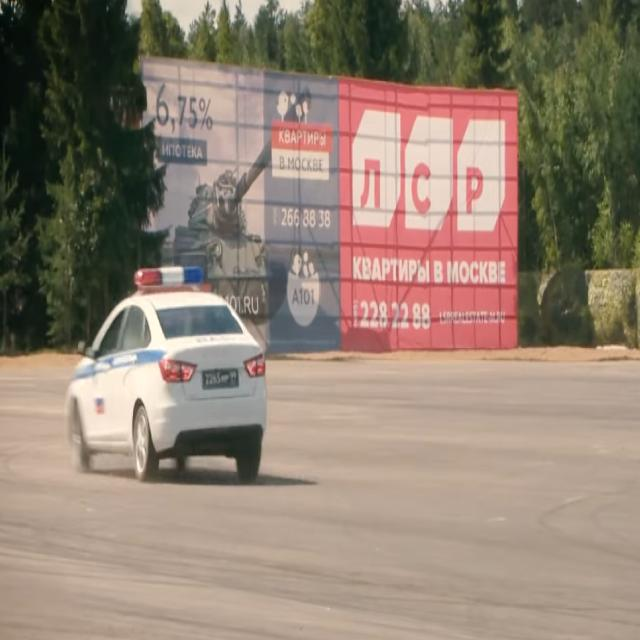police car: (61, 258, 271, 491)
